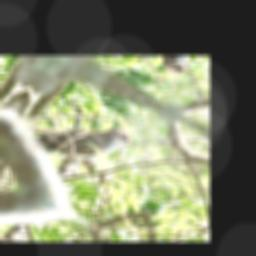Cuckoo: (17, 92, 143, 182)
